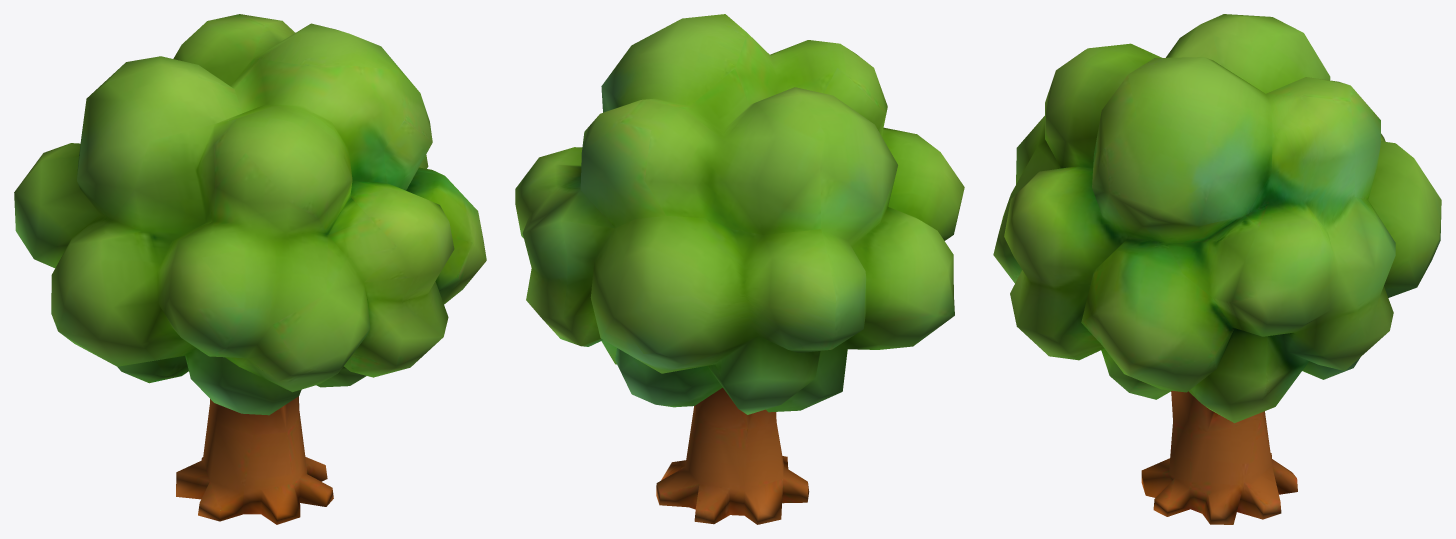
Rendered from tree_round.glb.
3 renders of one model, left to right at view 1: azimuth 30°, elevation 25°; view 2: azimuth 150°, elevation 25°; view 3: azimuth 270°, elevation 25°, orthographic. The views are drawn at different scales.
Parts seen in each view (by area): view 1: tripo_node_cc882fc4-f445-49e7-91e9-219593f0cabc; view 2: tripo_node_cc882fc4-f445-49e7-91e9-219593f0cabc; view 3: tripo_node_cc882fc4-f445-49e7-91e9-219593f0cabc.
Boxes of the visible parts, x1,y1,x2,y2 form: tripo_node_cc882fc4-f445-49e7-91e9-219593f0cabc: [14, 14, 486, 524]; tripo_node_cc882fc4-f445-49e7-91e9-219593f0cabc: [515, 14, 964, 524]; tripo_node_cc882fc4-f445-49e7-91e9-219593f0cabc: [993, 14, 1441, 524].
Size of the model in its own units: 0.9355 by 0.998 by 0.8965.
Materials: 1 (1 with a texture image).
